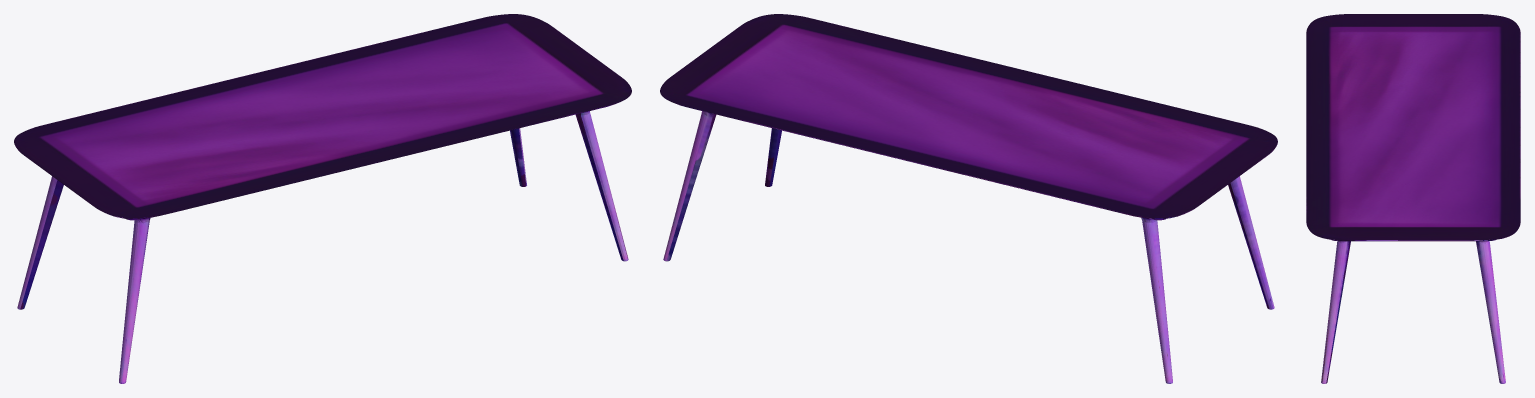
Rendered from edited_mesh.glb.
The picture shows the model from 3 angles, left to right: view 1: azimuth 30°, elevation 25°; view 2: azimuth 150°, elevation 25°; view 3: azimuth 270°, elevation 25°; orthographic projection. The views are drawn at different scales.
Parts seen in each view (by area): view 1: normalized_model.obj; view 2: normalized_model.obj; view 3: normalized_model.obj.
Part boxes in pixels (box(x1,y1,x2,y2)): normalized_model.obj: box(14, 14, 631, 383); normalized_model.obj: box(660, 14, 1277, 383); normalized_model.obj: box(1306, 14, 1520, 383).
Bounding box in the file's own units: 2 × 0.6096 × 0.8.
Materials: 1 (1 with a texture image).
